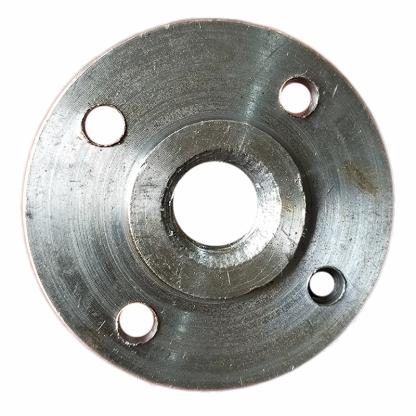FOD: (18, 13, 398, 394)
